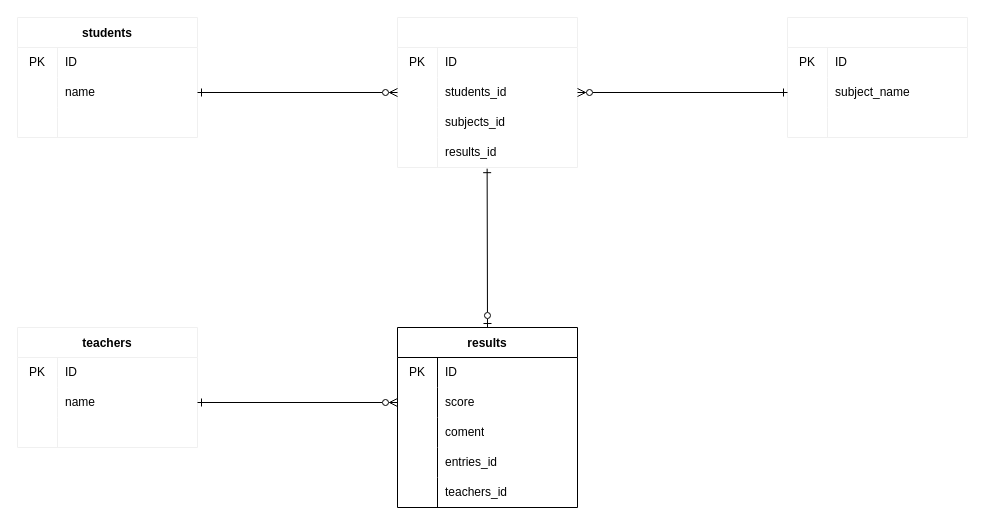
The diagram is 985 pixels wide and 525 high, and some of its shapes have lost their labels. Here are the shapes that lost their labels. From the top down, the box of each, then its label:
(396, 16, 578, 168): entries
(786, 16, 968, 138): subjects
